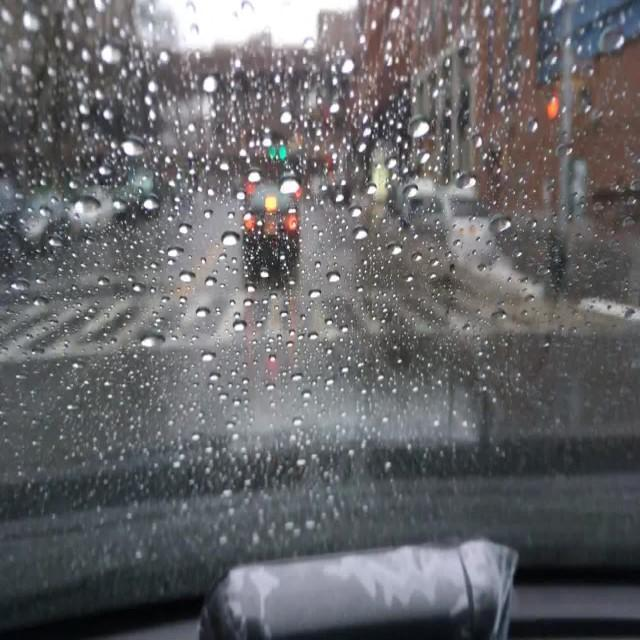normal: (232, 153, 317, 288)
